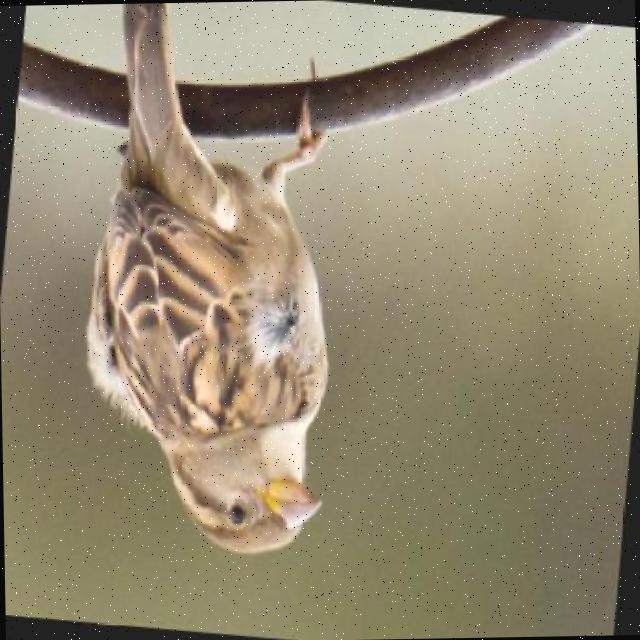sparrow: (62, 0, 375, 561)
